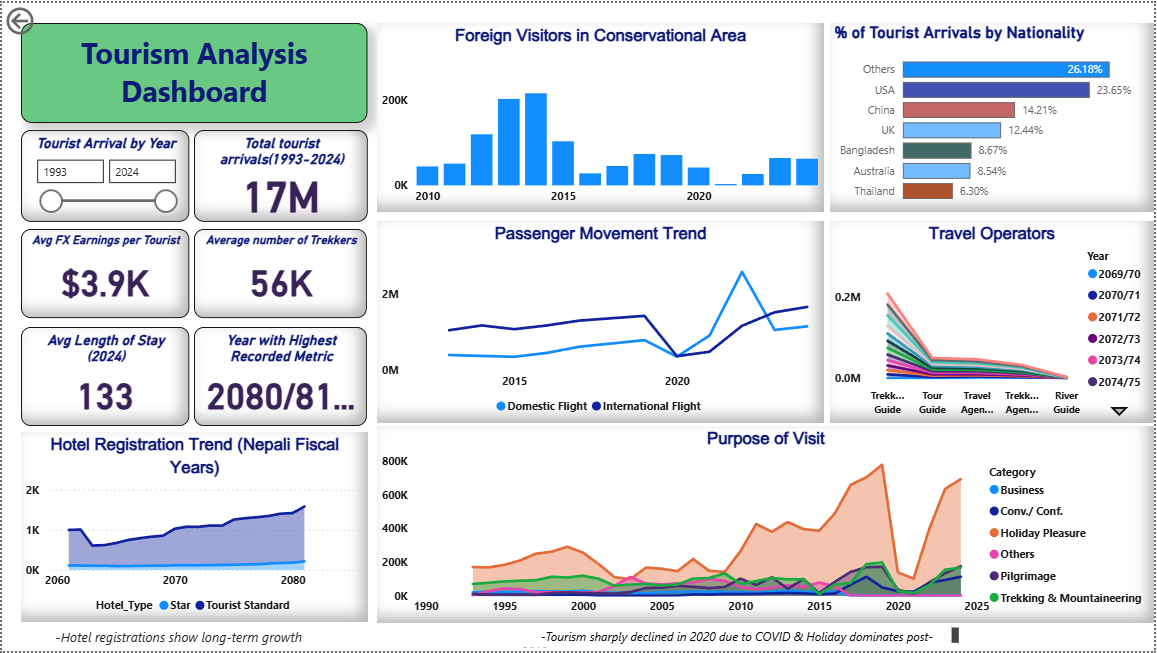

What the dashboard file says about the page in this screenshot:
{"tool":"powerbi","page":{"name":"Page 1","canvas":[1280,720],"ordinal":0},"visuals":[{"type":"slicer","title":"Tourist Arrival by Year","fields":{"Values":["11 tourist-arrival-by-purpose-o.Year"]},"box":[21,141,187,102],"z":0},{"type":"textbox","box":[20.7,21.8,385.1,111.5],"z":1000},{"type":"lineChart","title":"Passenger Movement Trend","fields":{"Category":["20 international-flight-and-pas.Year"],"Y":["Avg(21 domestic-flight-passenger-mo.Value)","Avg(20 international-flight-and-pas.Value)"]},"box":[416.2,242.1,496.9,224],"z":2000},{"type":"stackedAreaChart","title":"Hotel Registration Trend (Nepali Fiscal Years)","fields":{"Category":["23 tourist-standard-hotel-regis.Year"],"Y":["Sum(23 tourist-standard-hotel-regis.Hotel_Count)"],"Series":["23 tourist-standard-hotel-regis.Hotel_Type"]},"box":[20.9,477,386.3,211.3],"z":3000},{"type":"stackedAreaChart","title":"Travel Operators ","fields":{"Series":["24 -tourist-industries-and-guid.Year"],"Category":["24 -tourist-industries-and-guid.Category"],"Y":["Sum(24 -tourist-industries-and-guid.Value)"]},"box":[920.3,241.8,359.7,223.8],"z":4000},{"type":"columnChart","title":"Foreign Visitors in Conservational Area","fields":{"Category":["13number-of-foreign-visitors-to.Year"],"Y":["Sum(13number-of-foreign-visitors-to.Visitors)"]},"box":[416.2,21.8,496.9,210.4],"z":5000},{"type":"areaChart","title":"Purpose of Visit","fields":{"Series":["11 tourist-arrival-by-purpose-o.Category"],"Y":["Avg(11 tourist-arrival-by-purpose-o.Value)"],"Category":["11 tourist-arrival-by-purpose-o.Year"]},"box":[416.2,469.7,864.2,218.5],"z":6000},{"type":"card","title":"Total tourist arrivals(1993-2024)","fields":{"Values":["foreign_exchange_earning.Total Tourist Arrivals"]},"box":[213.6,140.9,192.7,101.8],"z":7000},{"type":"textbox","box":[571.6,688.5,496.6,32],"z":8000},{"type":"textbox","box":[54,688.5,291.8,32],"z":9000},{"type":"card","title":"Avg FX Earnings per Tourist","fields":{"Values":["foreign_exchange_earning.Avg FX per Tourist (Formatted)"]},"box":[20.9,251.2,186.8,98.8],"z":10000},{"type":"card","title":"Average number of Trekkers","fields":{"Values":["Sum(12number-of-trekkers-in-differe.Value)"]},"box":[213.1,251.2,192.2,98.8],"z":11000},{"type":"card","title":"Avg Length of Stay (2024)","fields":{"Values":["tourismdata.Avg_Stay_2024"]},"box":[21,359.7,186.9,109.9],"z":12000},{"type":"card","title":"Year with Highest Recorded Metric","fields":{"Values":["economic-indicator-of-hotel.Year with Highest Metric"]},"box":[213.1,360,192.2,109.7],"z":13000},{"type":"barChart","title":"% of Tourist Arrivals by Nationality","fields":{"Y":["nationality.Percentage of Total (%)"],"Category":["nationality.Nationality"]},"box":[920,22,360,210],"z":14000},{"type":"actionButton","box":[0,0,100,40],"z":15000}]}

Visuals, with their boxes in screenshot pixels (x1, y1, x2, y2), scaled from the page's 1280x720 canvas onto the 1157x653 screenshot:
"Tourist Arrival by Year" slicer: 19/128/188/220
textbox: 19/20/367/121
"Passenger Movement Trend" lineChart: 376/220/825/423
"Hotel Registration Trend (Nepali Fiscal Years)" stackedAreaChart: 19/433/368/624
"Travel Operators " stackedAreaChart: 832/219/1156/422
"Foreign Visitors in Conservational Area" columnChart: 376/20/825/211
"Purpose of Visit" areaChart: 376/426/1156/624
"Total tourist arrivals(1993-2024)" card: 193/128/367/220
textbox: 517/624/966/652
textbox: 49/624/313/652
"Avg FX Earnings per Tourist" card: 19/228/188/317
"Average number of Trekkers" card: 193/228/366/317
"Avg Length of Stay (2024)" card: 19/326/188/426
"Year with Highest Recorded Metric" card: 193/326/366/426
"% of Tourist Arrivals by Nationality" barChart: 832/20/1156/210
actionButton: 0/0/90/36
